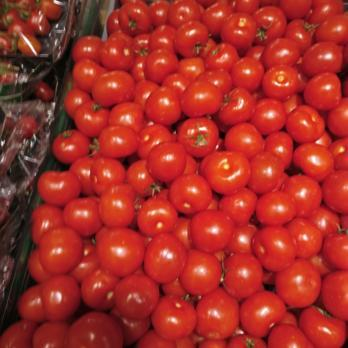Tomato: (76, 2, 348, 348)
